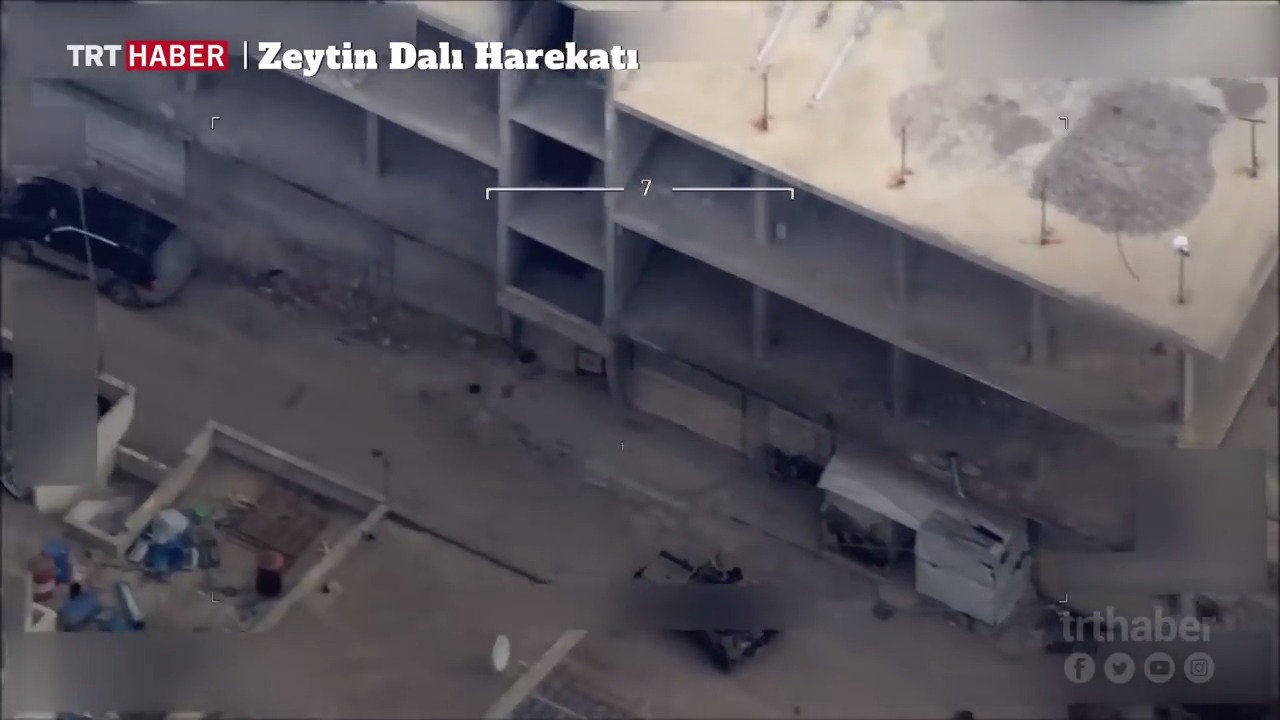arac: (1, 162, 204, 318)
